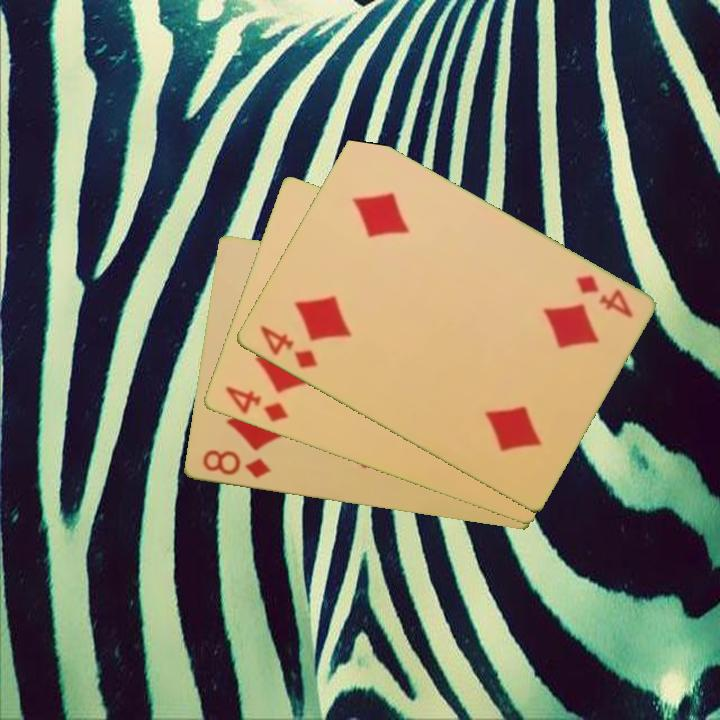4d: (255, 321, 320, 372), (572, 271, 636, 322), (221, 382, 291, 426)
8d: (198, 446, 274, 482)
